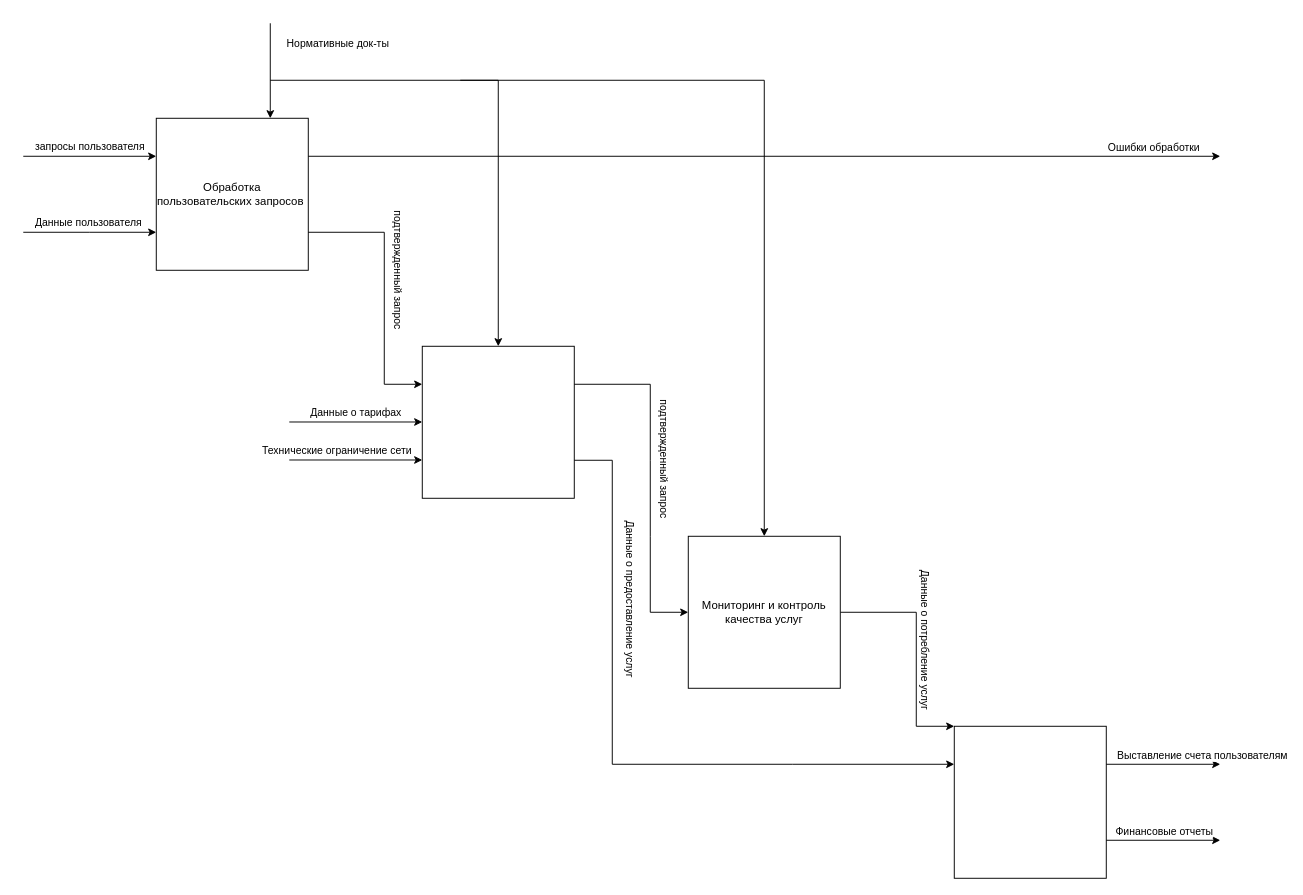
This 1303x895 diagram has some shape labels left out. Here are the shapes that lost their labels. From the top down, the box of each, then its label:
(421, 345, 574, 498): Управление услугами и тарифами
(953, 725, 1106, 878): Биллинг и расчеты
